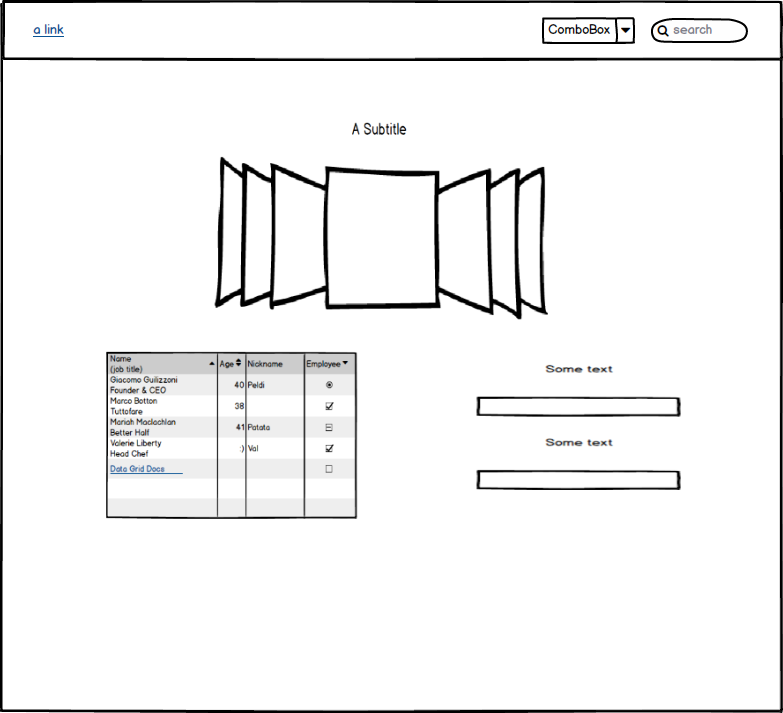h1: (340, 117, 414, 141)
input: (470, 392, 692, 423), (473, 464, 683, 494)
label: (539, 356, 623, 382), (541, 434, 619, 453)
navlink: (23, 19, 72, 45)
search: (649, 13, 752, 49)
select_box: (539, 12, 641, 50)
slideshow: (209, 146, 566, 329)
table: (99, 347, 362, 525)
